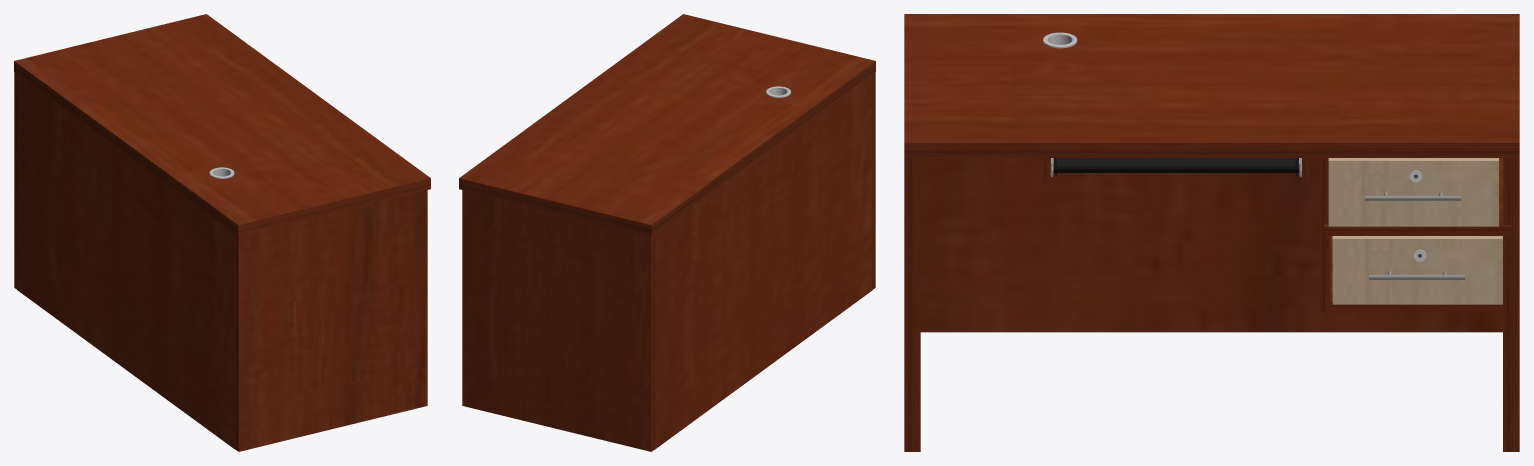
File: DESK WITH PC.glb
3 renders of one model, left to right at view 1: azimuth 30°, elevation 25°; view 2: azimuth 150°, elevation 25°; view 3: azimuth 270°, elevation 25°, orthographic. The views are drawn at different scales.
Visible parts, largest first — view 1: Cube.011; view 2: Cube.011; view 3: Cube.011, Cube.009, Cube.008, Cube.010, Cube.005.
Boxes of the visible parts, x1,y1,x2,y2 form: Cube.011: (14, 14, 430, 451); Cube.011: (459, 14, 875, 451); Cube.011: (904, 14, 1519, 451); Cube.009: (1328, 158, 1498, 226); Cube.008: (1332, 236, 1502, 304); Cube.010: (1051, 158, 1301, 175); Cube.005: (1330, 236, 1502, 311).
Size of the model in its own units: 22.54 by 24.34 by 43.43.
44 materials, 20 textured.
